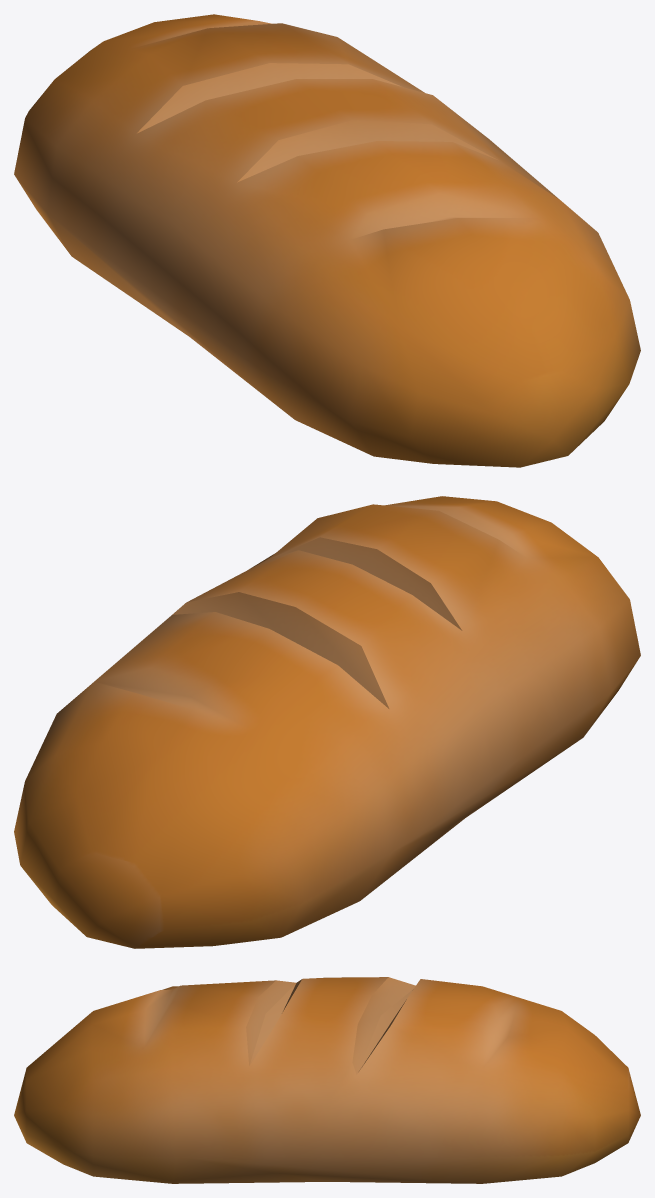
The model's file is FOD0110031.fbx.
3 views of the same model, one above another, from view 1: azimuth 30°, elevation 25°; view 2: azimuth 150°, elevation 25°; view 3: azimuth 270°, elevation 25° (orthographic). The views are drawn at different scales.
Parts seen in each view (by area): view 1: smFOD0110031; view 2: smFOD0110031; view 3: smFOD0110031.
Boxes of the visible parts, x1,y1,x2,y2 form: smFOD0110031: (14, 14, 640, 467); smFOD0110031: (14, 496, 640, 948); smFOD0110031: (14, 977, 640, 1183).
Bounding box in the file's own units: 25.93 × 14.48 × 58.87.
1 material, 1 textured.
